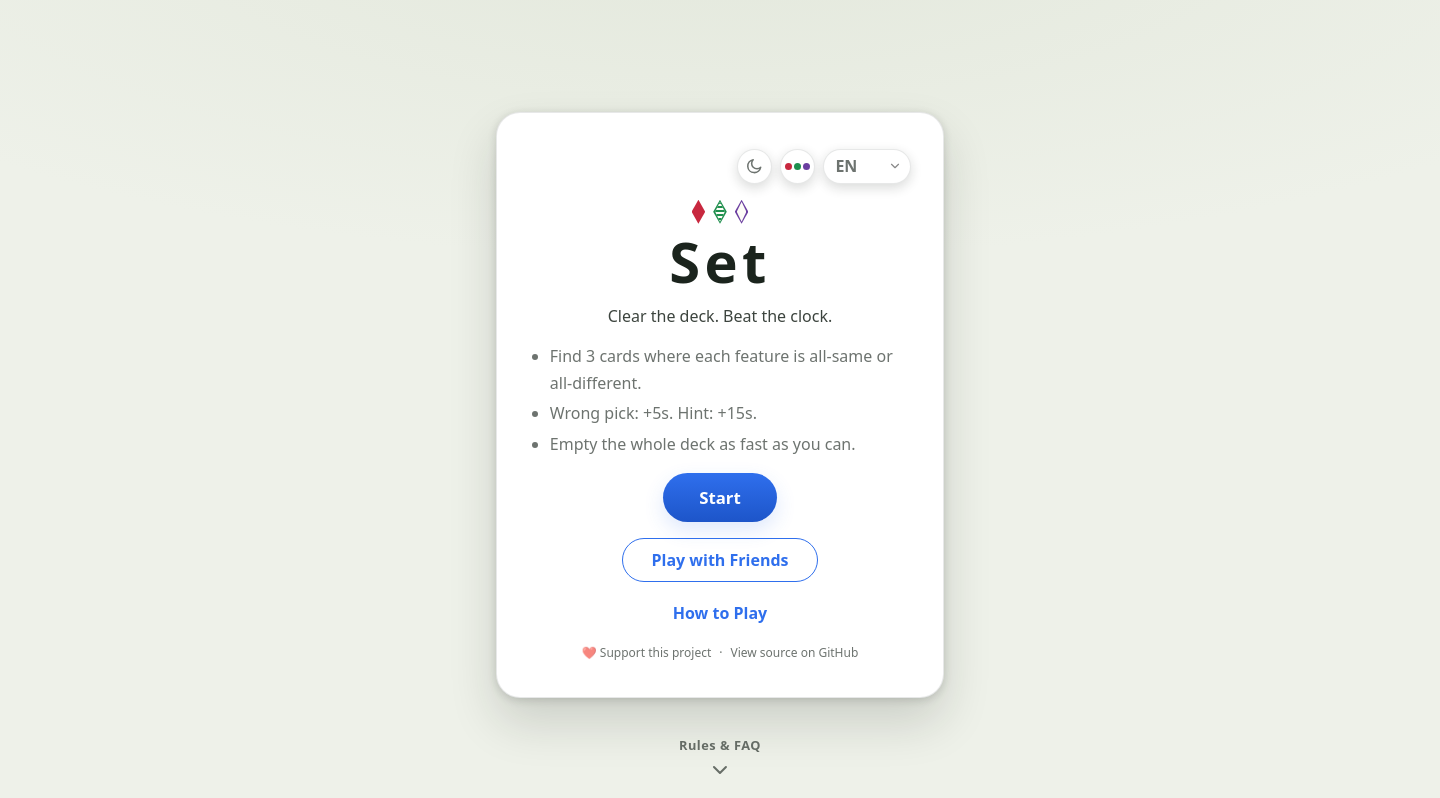
Test: defines each stripe pattern once, even with the how-to modal over the board
Click the button "Start". click: (720, 497)
box: 663,473 -> 777,522
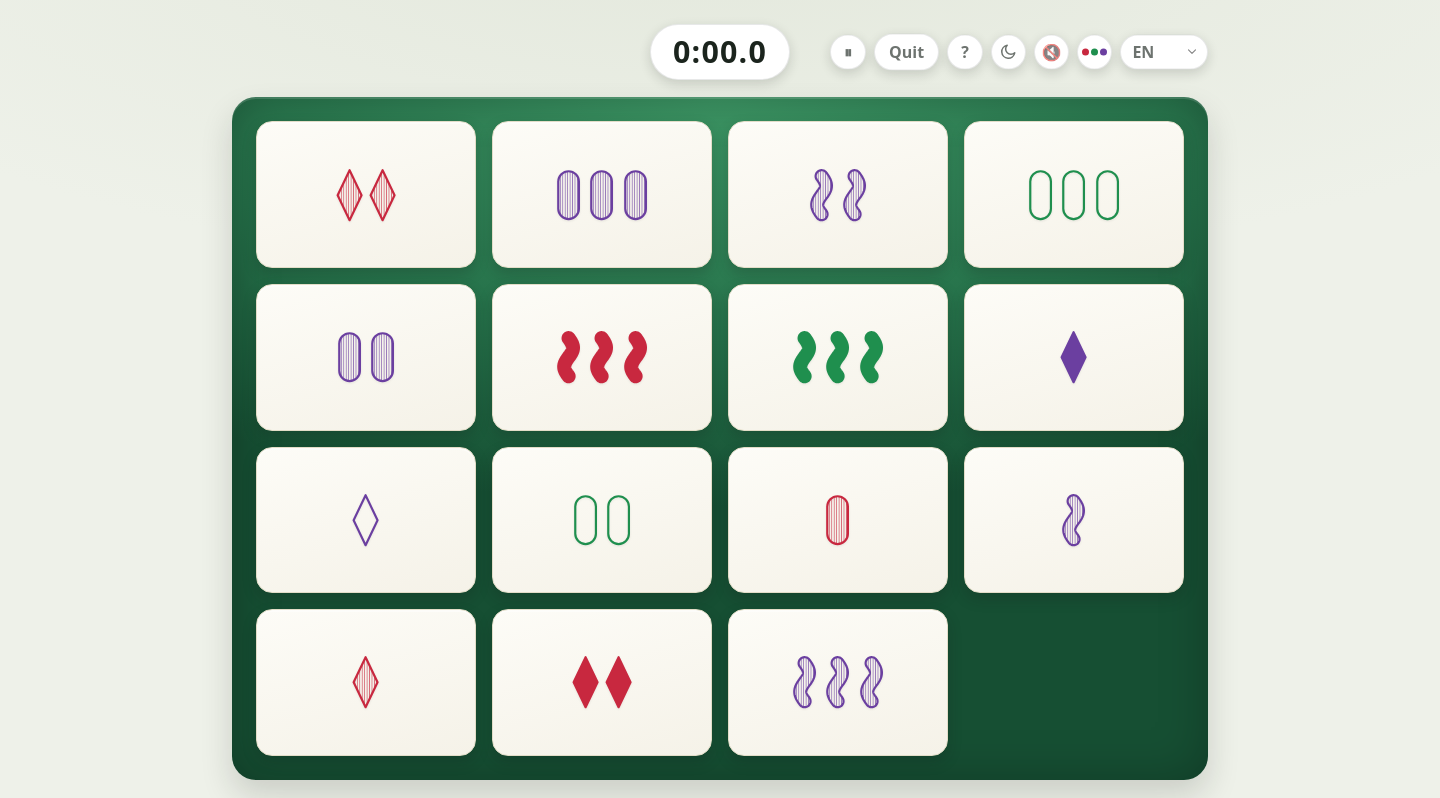
Click the button named "how to play". click: (965, 52)
box: 948,34 -> 983,70
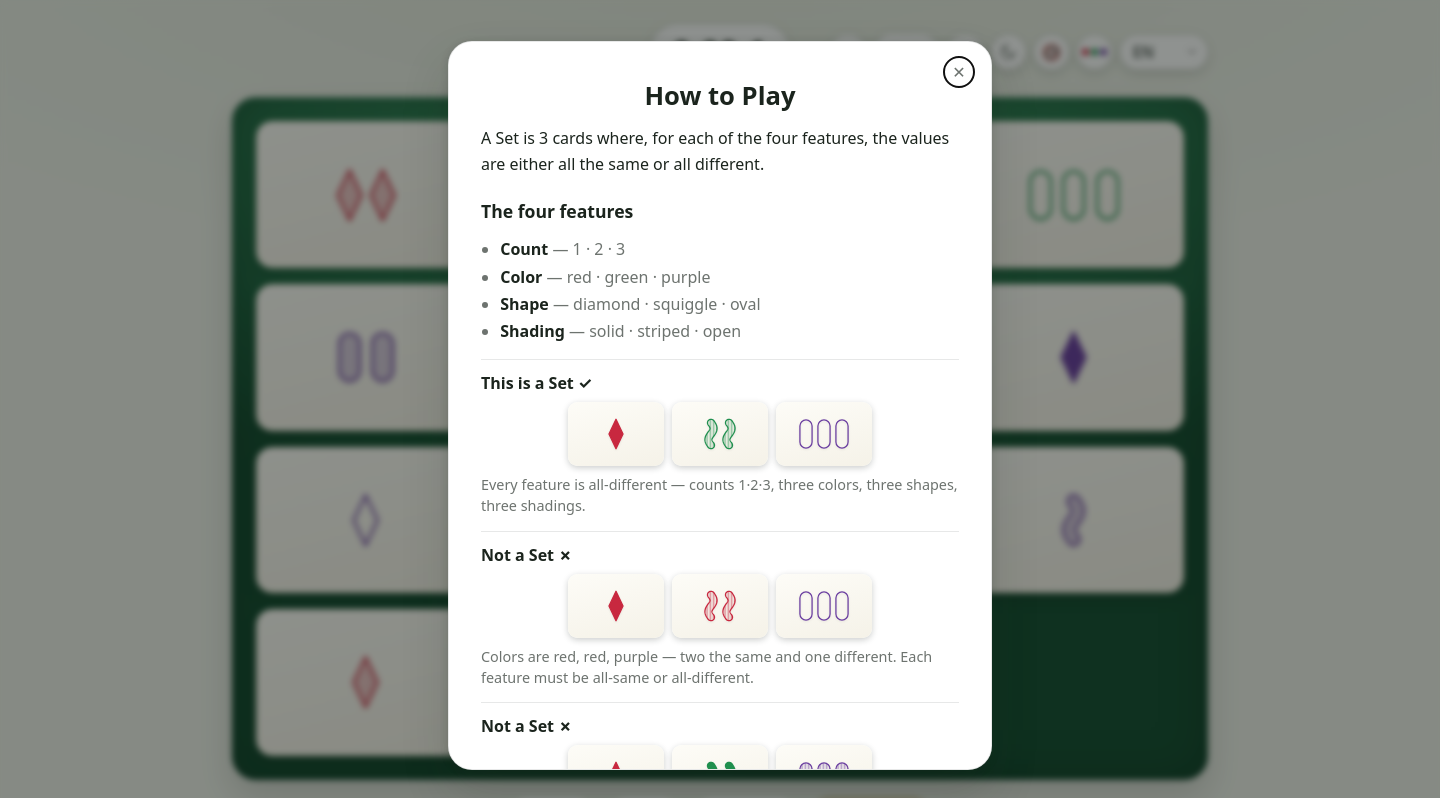
Now the dialog "How to Play" is shown, box 448,40 -> 992,770
